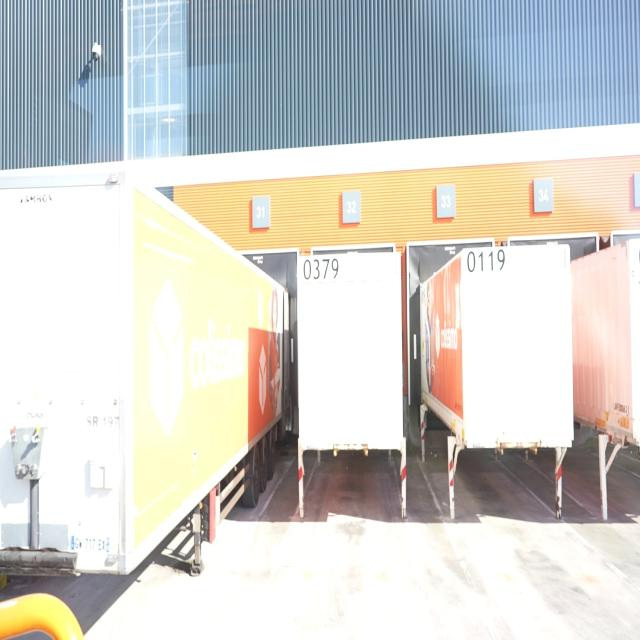Code: (463, 245, 508, 278), (302, 254, 340, 286)
